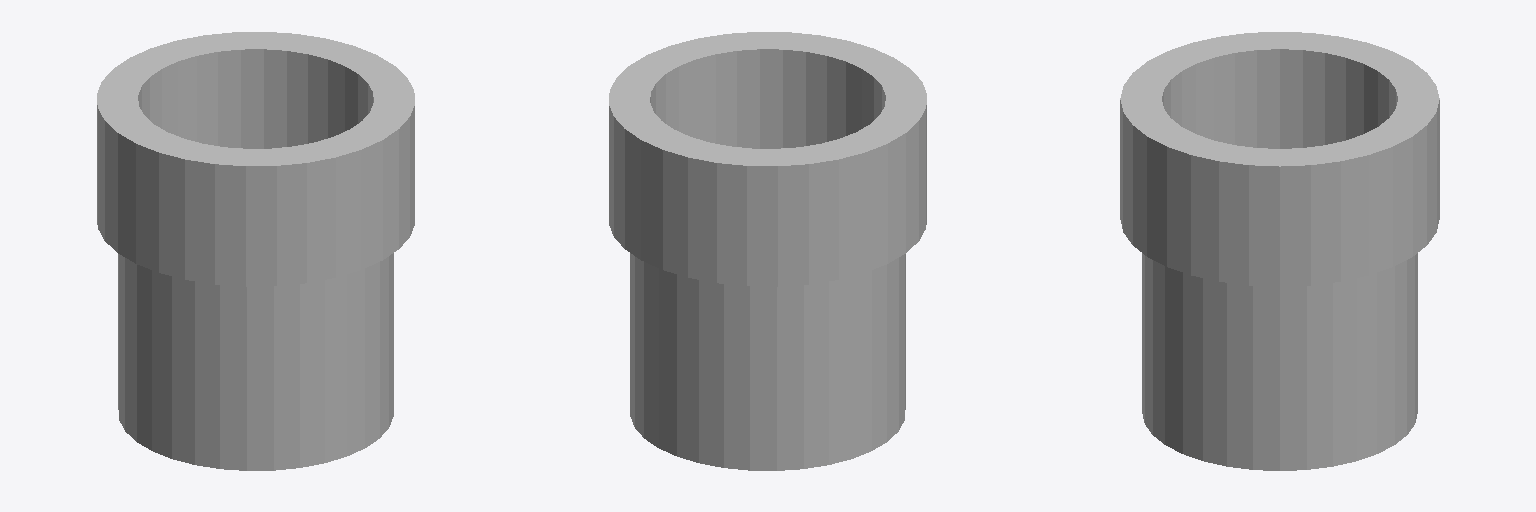
The model's file is tinker.obj.
The picture shows the model from 3 angles: view 1: azimuth 30°, elevation 25°; view 2: azimuth 150°, elevation 25°; view 3: azimuth 270°, elevation 25°; orthographic projection.
Visible parts, largest first — view 1: hole_2_Cylinder.003; view 2: hole_2_Cylinder.003; view 3: hole_2_Cylinder.003.
Boxes of the visible parts, <box> form: hole_2_Cylinder.003: <box>97,32,414,470</box>; hole_2_Cylinder.003: <box>609,32,926,470</box>; hole_2_Cylinder.003: <box>1120,32,1439,470</box>.
Bounding box in the file's own units: 2.32 × 2.51 × 2.32.